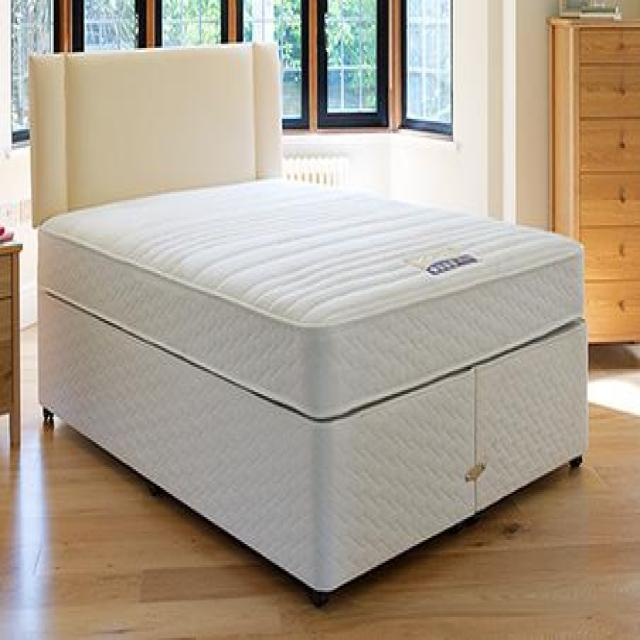bed: (27, 38, 589, 606)
